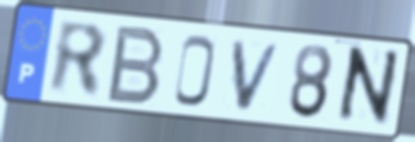0: (173, 33, 219, 108)
8: (286, 41, 336, 122)
B: (103, 23, 168, 107)
N: (332, 44, 403, 130)
R: (47, 17, 109, 101)
V: (230, 38, 286, 114)
